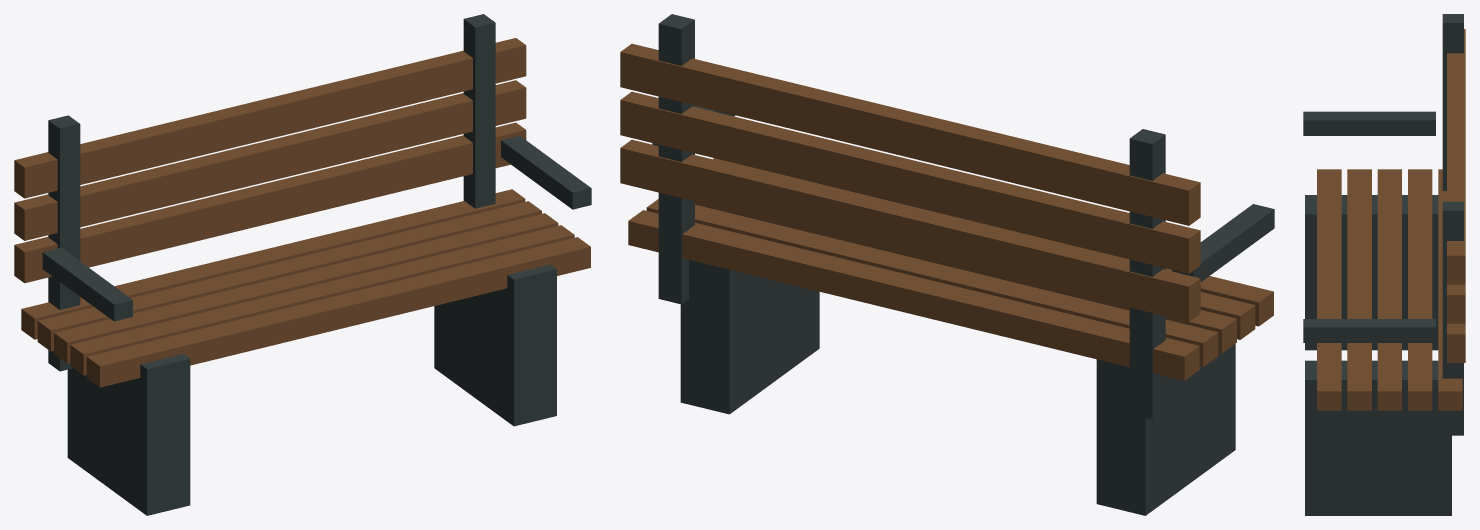
The model's file is bench_timber.glb.
3 views of the same model, side by side, from view 1: azimuth 30°, elevation 25°; view 2: azimuth 150°, elevation 25°; view 3: azimuth 270°, elevation 25° (orthographic). The views are drawn at different scales.
Visible parts, largest first — view 1: bench_timber; view 2: bench_timber; view 3: bench_timber.
Part boxes in pixels (bbox=[...]): bench_timber: bbox=[14, 14, 591, 515]; bench_timber: bbox=[620, 14, 1274, 515]; bench_timber: bbox=[1303, 14, 1465, 515].
Size of the model in its own units: 1.86 by 1.19 by 0.5625.
